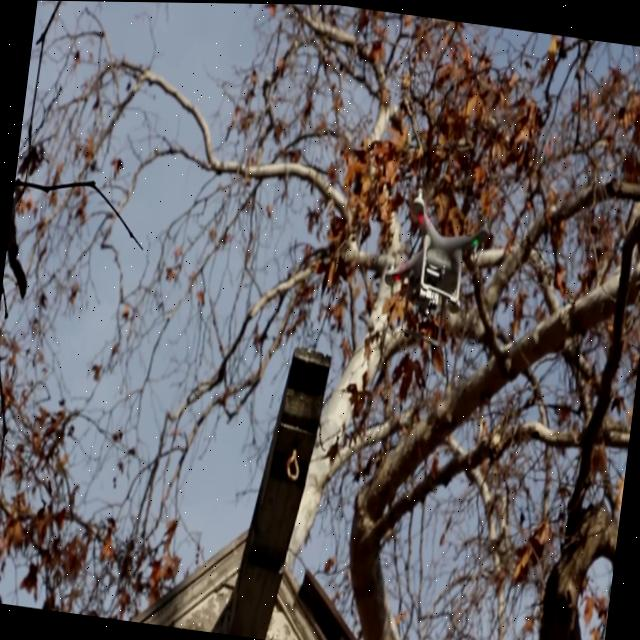drone: (378, 178, 498, 343)
